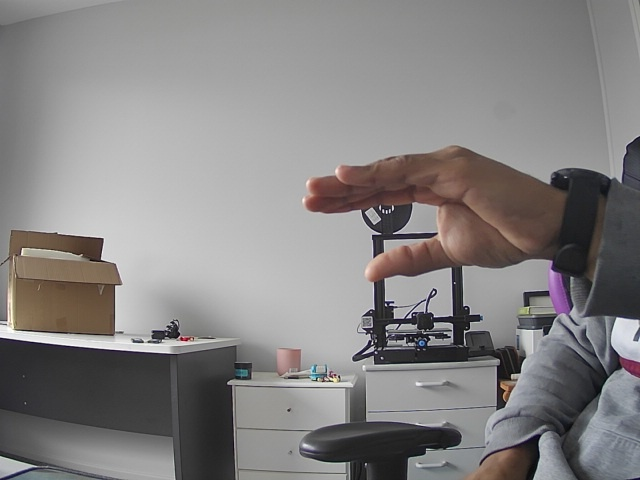No: (292, 138, 585, 284)
